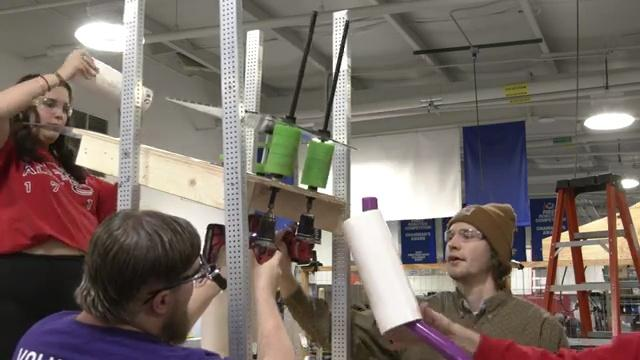CORAL: (341, 195, 472, 358), (76, 58, 153, 113)
